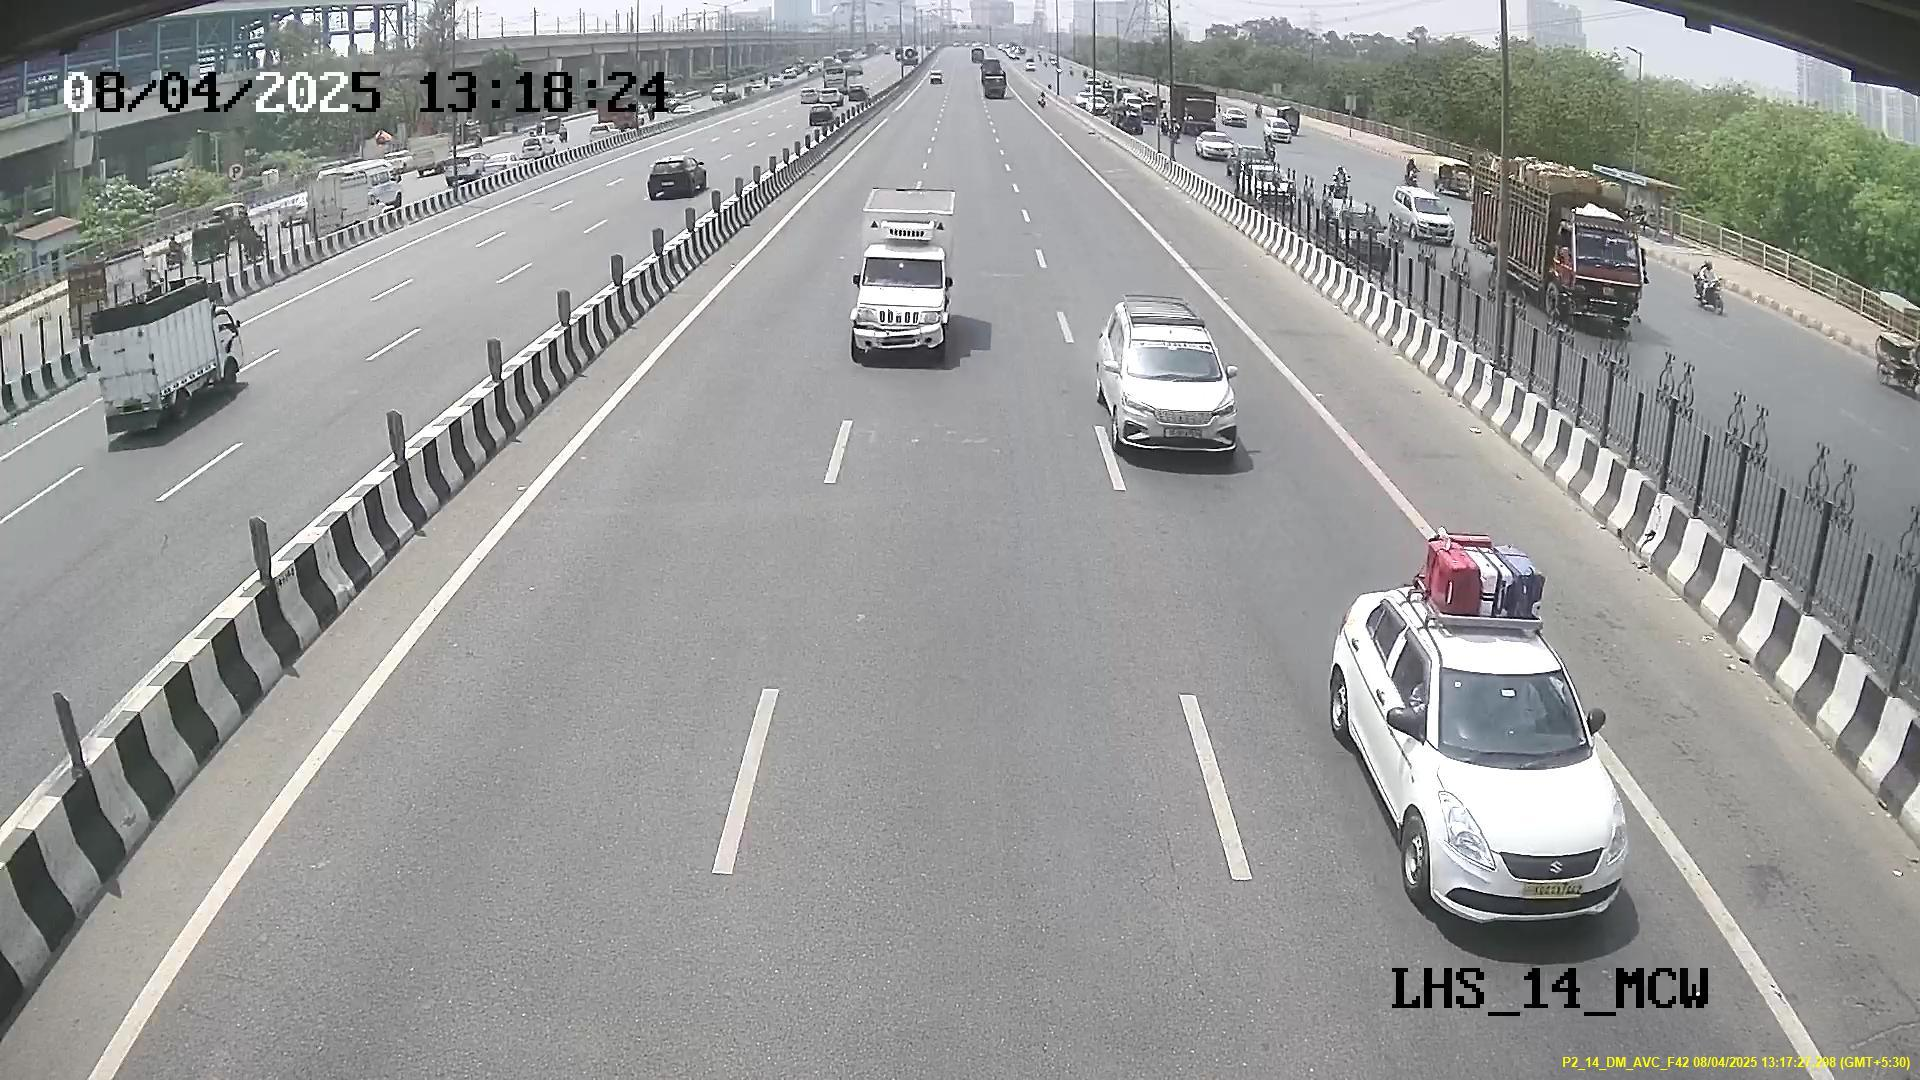car: (1353, 641, 1631, 927), (1109, 316, 1237, 462), (845, 244, 956, 367)
